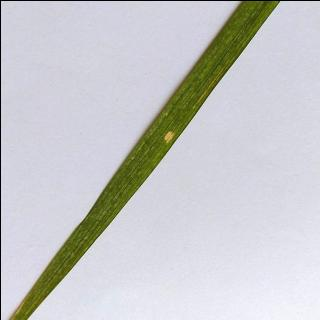Blast: (158, 122, 178, 148)
